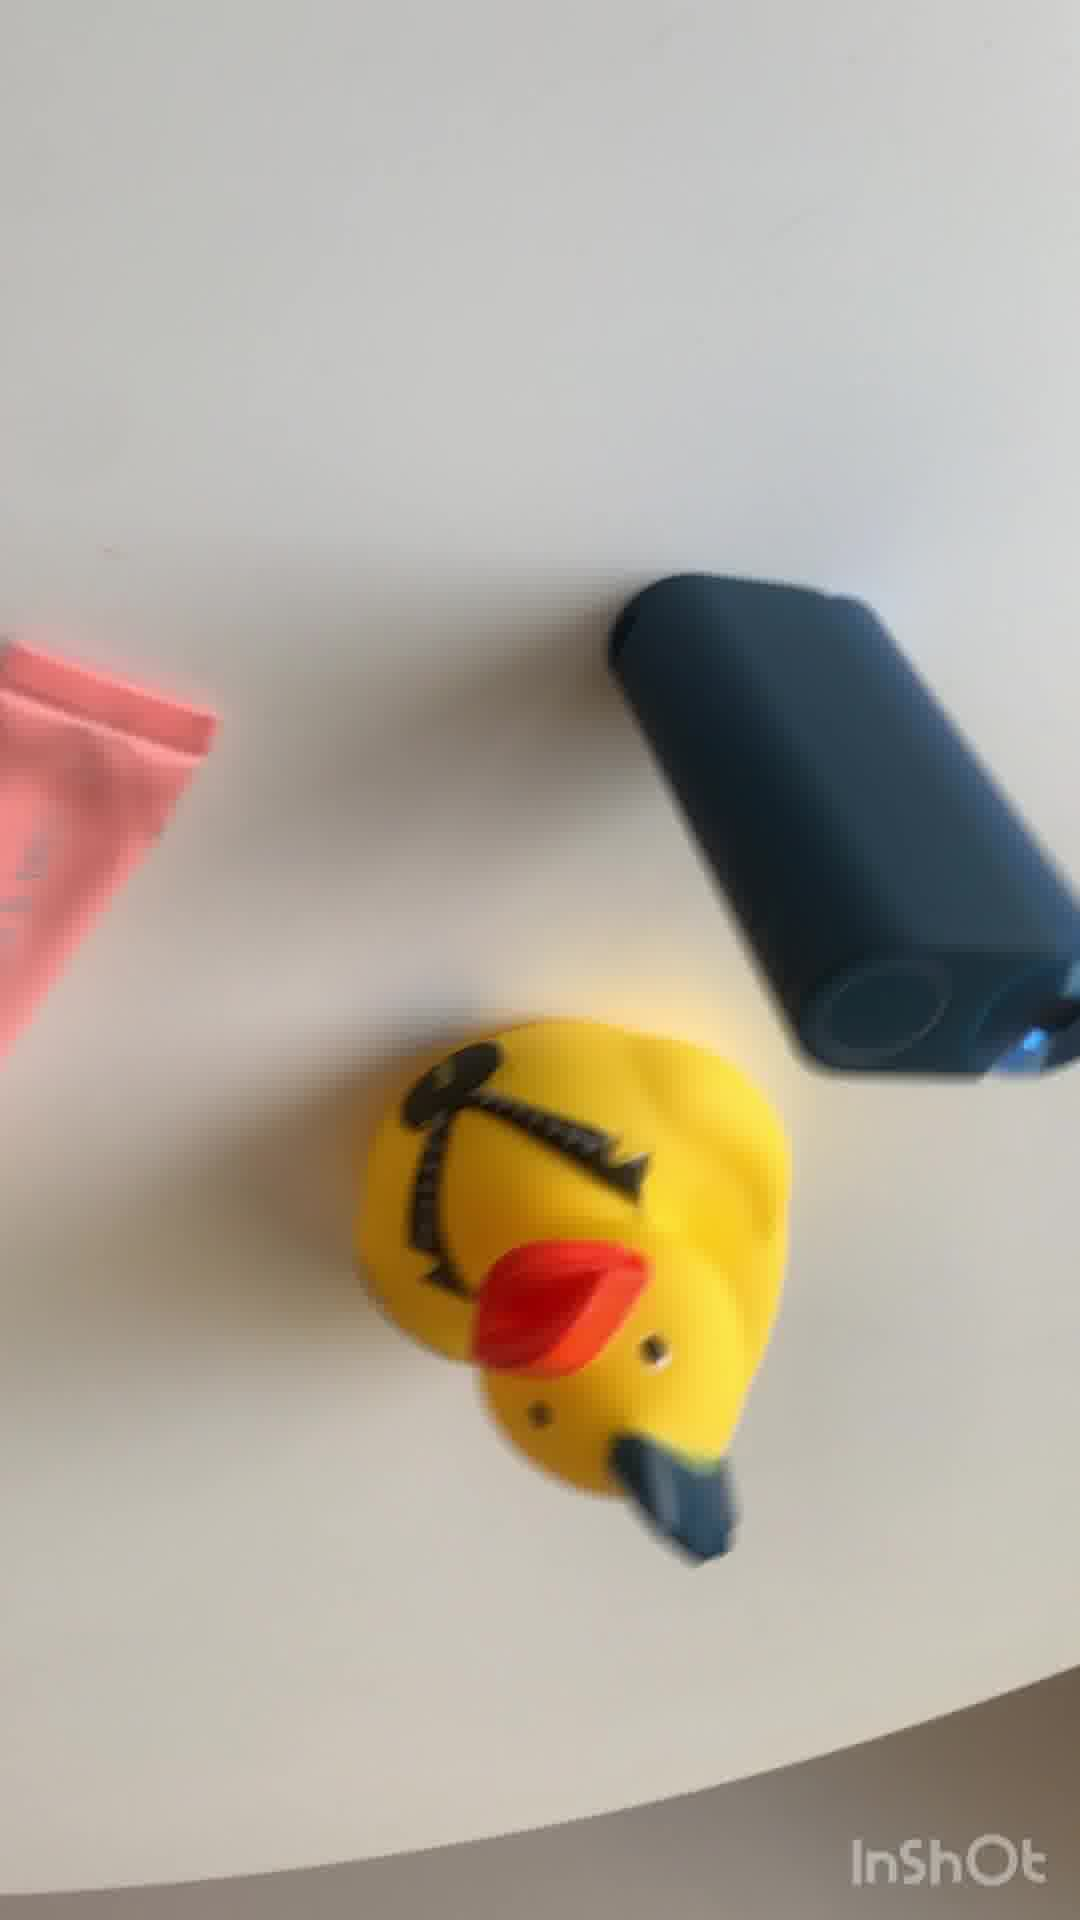duck: (345, 1013, 787, 1575)
glo: (605, 567, 1080, 1075)
lip balm: (1, 628, 222, 1058)
